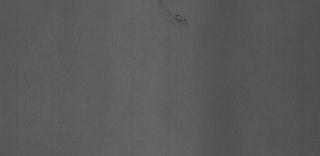inclusion: (167, 14, 191, 28)
water spot: (156, 0, 170, 12)
